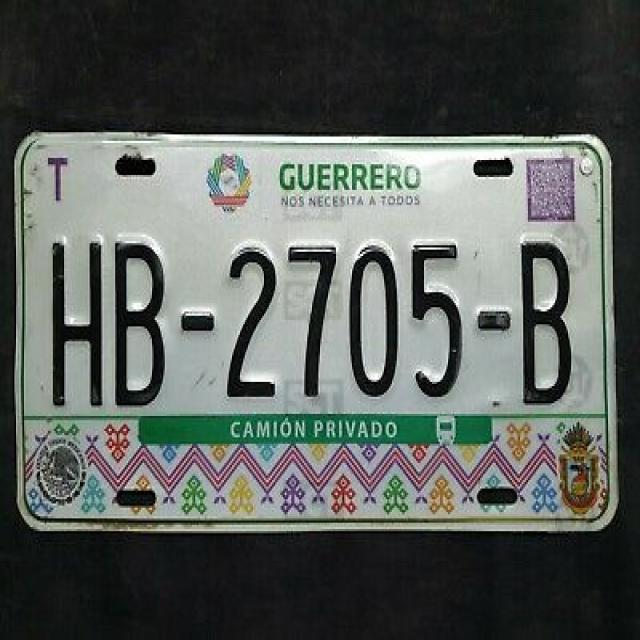placa: (22, 213, 603, 409)
